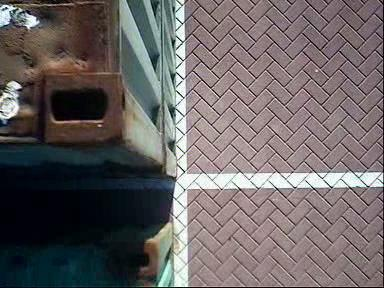groundmarker_2: (177, 123, 292, 261)
